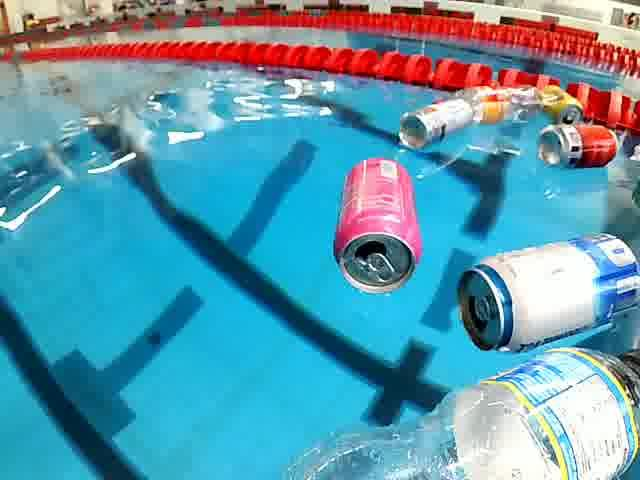Bottle: (278, 341, 639, 480), (436, 82, 544, 123)
Can: (450, 227, 639, 360), (328, 148, 424, 299), (535, 119, 623, 172), (399, 101, 478, 148), (536, 84, 586, 132)
